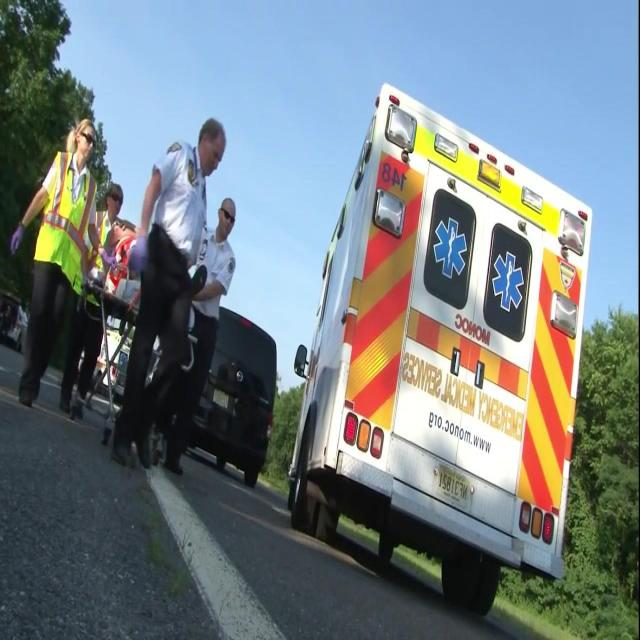Reflective-Jacket: (26, 150, 100, 308)
